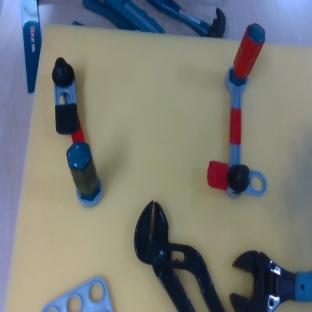non_pass: (39, 55, 106, 210)
pass: (205, 23, 267, 198)
